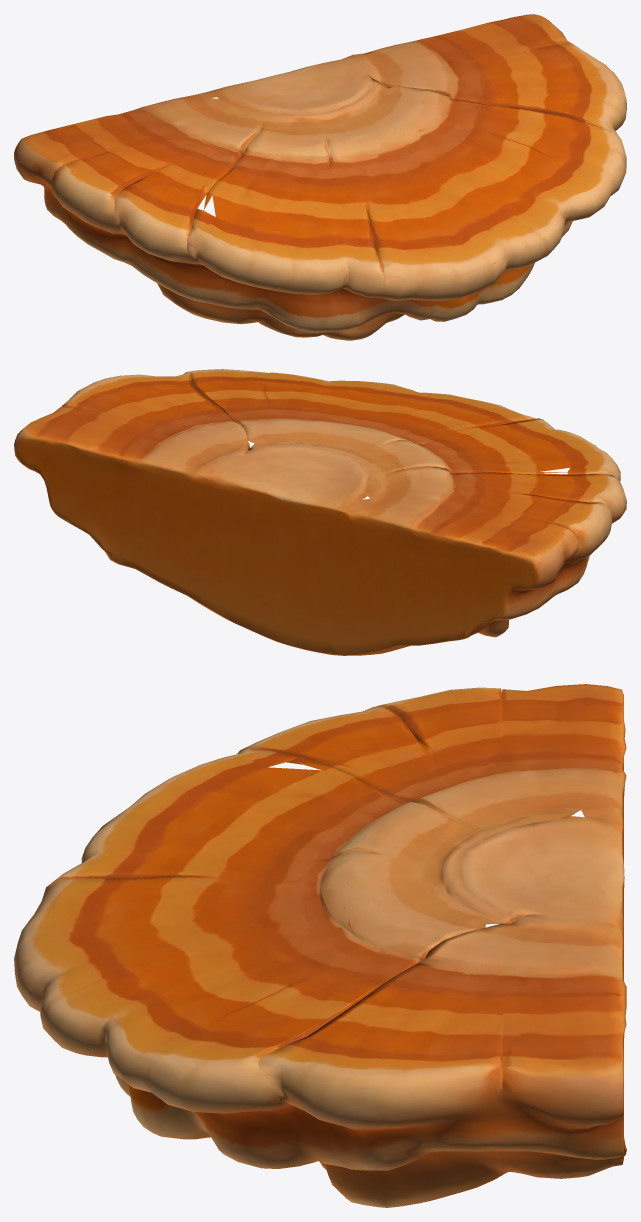
File: shelf_fungus.glb
3 views of the same model, one above another, from view 1: azimuth 30°, elevation 25°; view 2: azimuth 150°, elevation 25°; view 3: azimuth 270°, elevation 25° (orthographic). The views are drawn at different scales.
Size of what is drawn, in the model's own units: 2.92 by 0.9999 by 1.88.
1 material, 1 textured.
